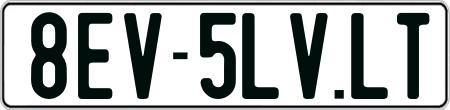5: (199, 10, 237, 101)
8: (29, 10, 69, 99)
E: (78, 12, 113, 102)
L: (350, 12, 393, 98), (239, 13, 276, 102)
T: (397, 13, 431, 105)
V: (288, 12, 329, 101), (124, 13, 162, 103)
